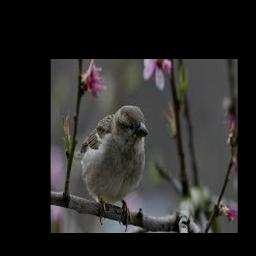Sparrow: (73, 105, 149, 230)
